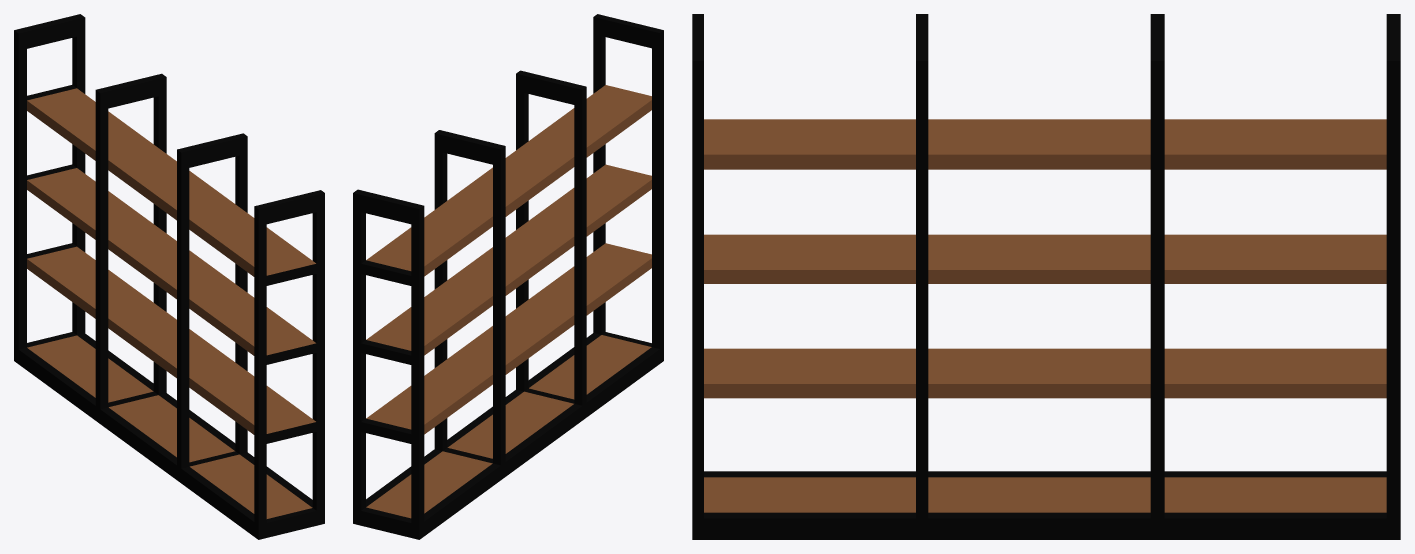
Rendered from estanteria.fbx.
The picture shows the model from 3 angles, left to right: view 1: azimuth 30°, elevation 25°; view 2: azimuth 150°, elevation 25°; view 3: azimuth 270°, elevation 25°; orthographic projection. The views are drawn at different scales.
Visible parts, largest first — view 1: Cube.001; view 2: Cube.001; view 3: Cube.001.
Part boxes in pixels (x1=…): Cube.001: x1=14, y1=14, x2=324, y2=539; Cube.001: x1=353, y1=14, x2=663, y2=539; Cube.001: x1=692, y1=14, x2=1400, y2=539.
Size of the model in its own units: 71.66 by 341 by 457.
